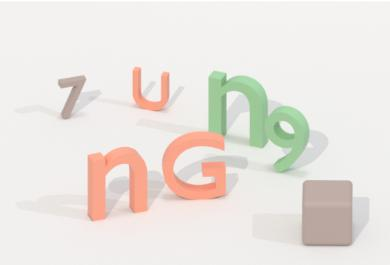0-KhoiVuong: (298, 175, 358, 251)
7: (51, 71, 91, 123)
9: (263, 103, 314, 176)
G: (159, 128, 233, 206)
U: (127, 62, 173, 115)
n: (83, 142, 155, 225), (202, 65, 270, 151)
